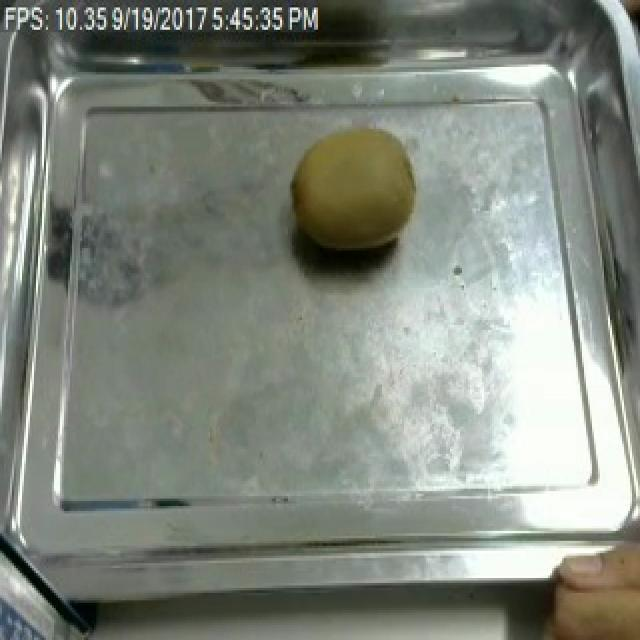Fruit: (284, 117, 428, 260), (532, 533, 640, 640)
